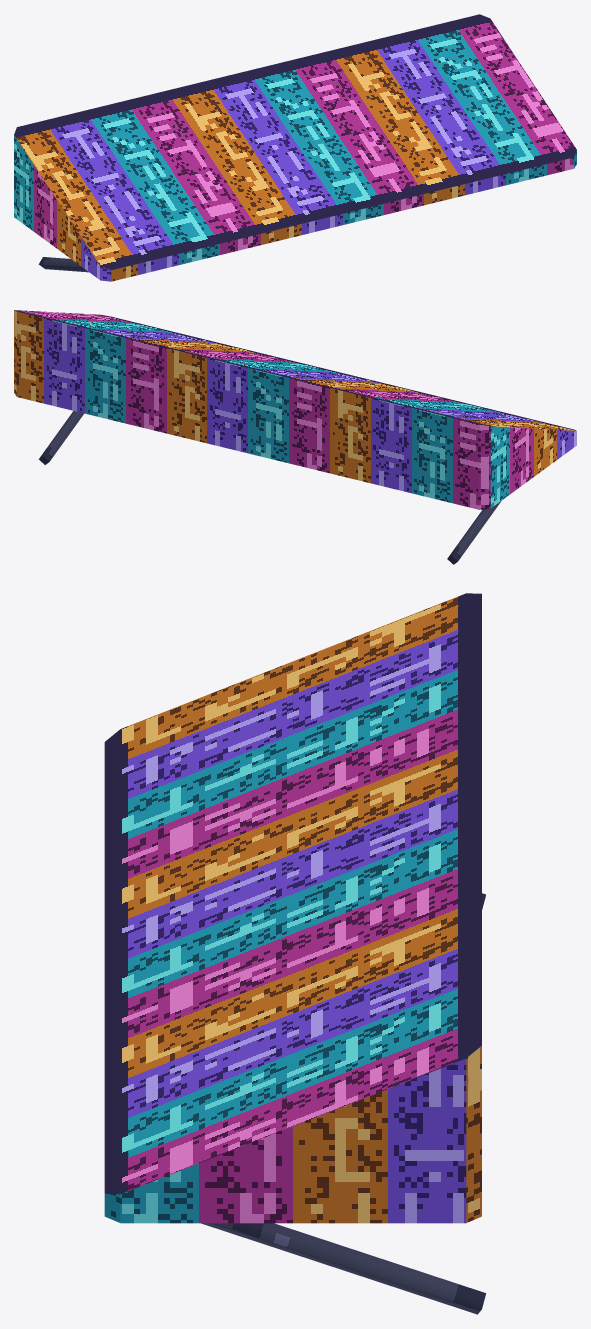
Rendered from cydress.awning.glb.
3 renders of one model, top to bottom at view 1: azimuth 30°, elevation 25°; view 2: azimuth 150°, elevation 25°; view 3: azimuth 270°, elevation 25°, orthographic. The views are drawn at different scales.
Parts seen in each view (by area): view 1: kit_awning; view 2: kit_awning; view 3: kit_awning.
Boxes of the visible parts, left/top/right/bottom form: kit_awning: left=14, top=14, right=576, bottom=281; kit_awning: left=14, top=310, right=576, bottom=564; kit_awning: left=104, top=593, right=485, bottom=1314.
Size of the model in its own units: 3.5 by 1.04 by 1.21.
2 materials, 2 textured.
